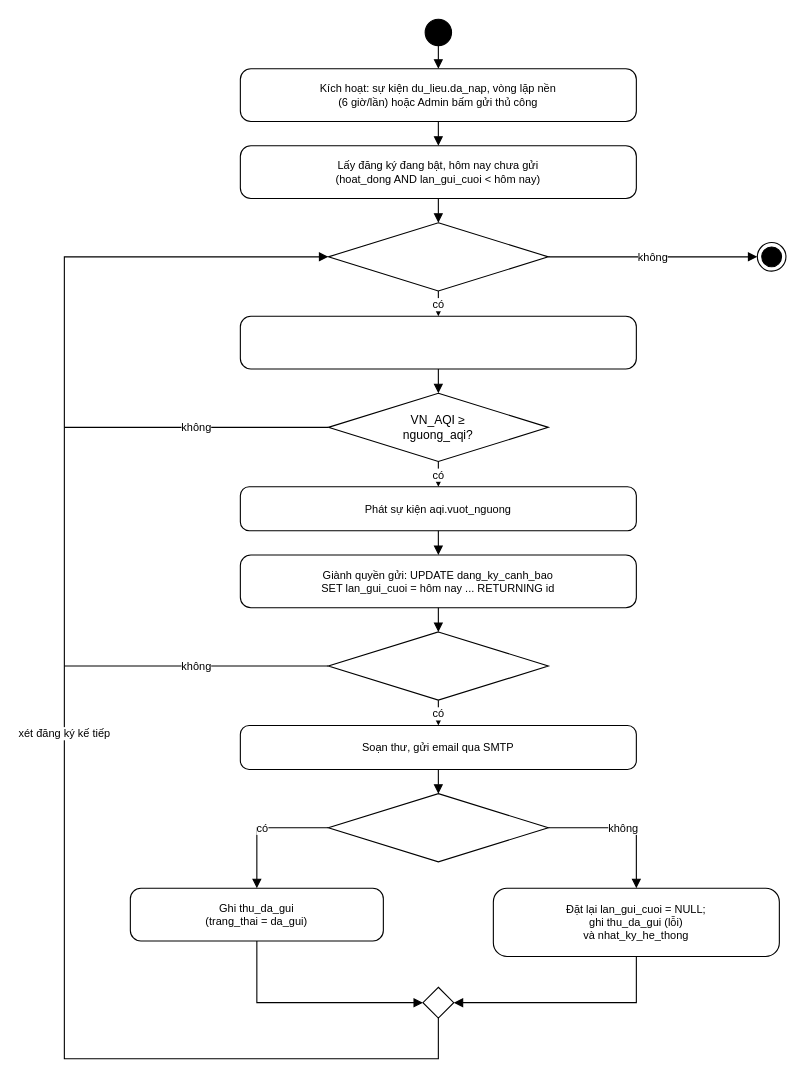
The diagram is 805 pixels wide and 1087 high, and some of its shapes have lost their labels. Each missing label, with the centre of its shape:
"Còn đăng ký chưa xét?" belongs at point (437, 256).
"Giành được?" belongs at point (437, 665).
"Gửi thành công?" belongs at point (437, 827).
"Lấy số liệu mới nhất của điểm, tính VN_AQI từ PM2.5, PM10, O3" belongs at point (437, 342).
